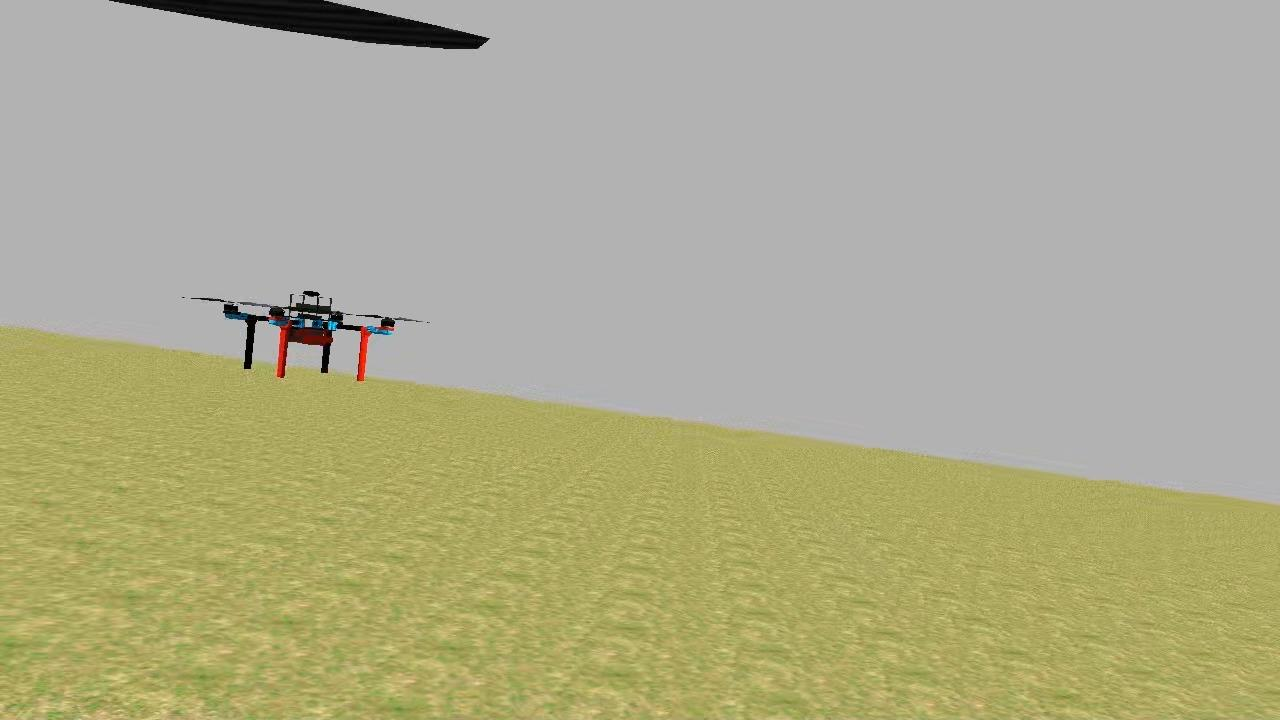UAV: (210, 260, 413, 404)
